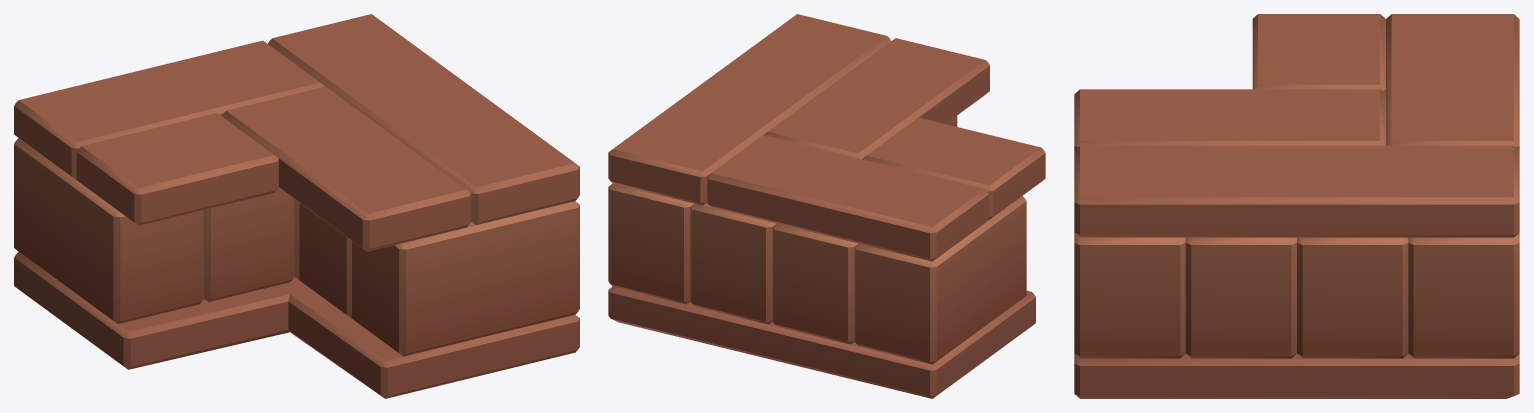
Rendered from bar_innercorner.glb.
3 renders of one model, left to right at view 1: azimuth 30°, elevation 25°; view 2: azimuth 150°, elevation 25°; view 3: azimuth 270°, elevation 25°, orthographic. The views are drawn at different scales.
Parts seen in each view (by area): view 1: bar_innercorner; view 2: bar_innercorner; view 3: bar_innercorner.
Boxes of the visible parts, x1,y1,x2,y2 form: bar_innercorner: [14, 14, 579, 398]; bar_innercorner: [608, 14, 1045, 398]; bar_innercorner: [1074, 14, 1519, 398].
Bounding box in the file's own units: 2 × 0.9999 × 2.
Materials: 1 (1 with a texture image).
